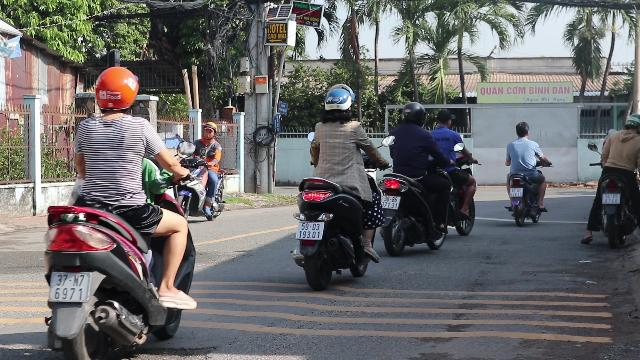helmet: (91, 66, 139, 115), (320, 86, 356, 122), (400, 102, 426, 126), (621, 114, 639, 134), (200, 121, 217, 141), (200, 121, 216, 140)
licenseplate: (49, 273, 89, 302), (296, 221, 324, 238), (380, 195, 400, 209), (602, 194, 620, 204), (510, 188, 522, 196)
motorcyclist: (32, 66, 204, 356), (288, 83, 380, 286), (376, 100, 450, 256), (584, 112, 640, 246), (430, 107, 478, 235), (174, 120, 226, 222), (501, 121, 547, 226)
nohelmet: (435, 109, 453, 128), (514, 121, 530, 139)
